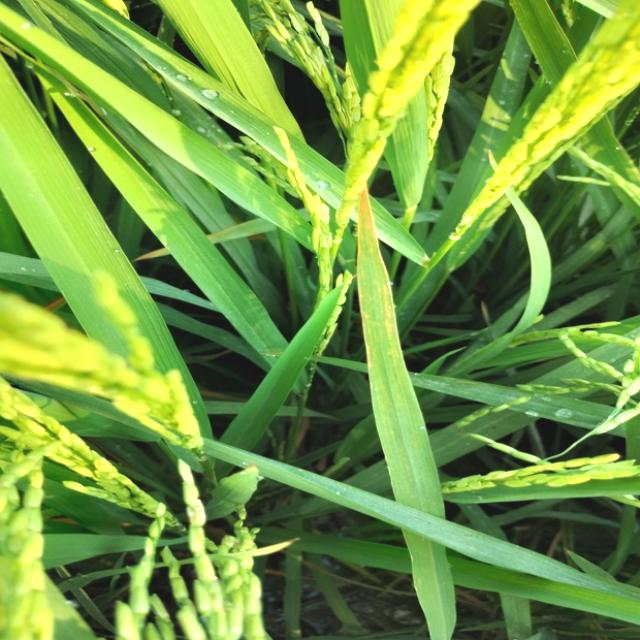healthy: (346, 184, 399, 335)
